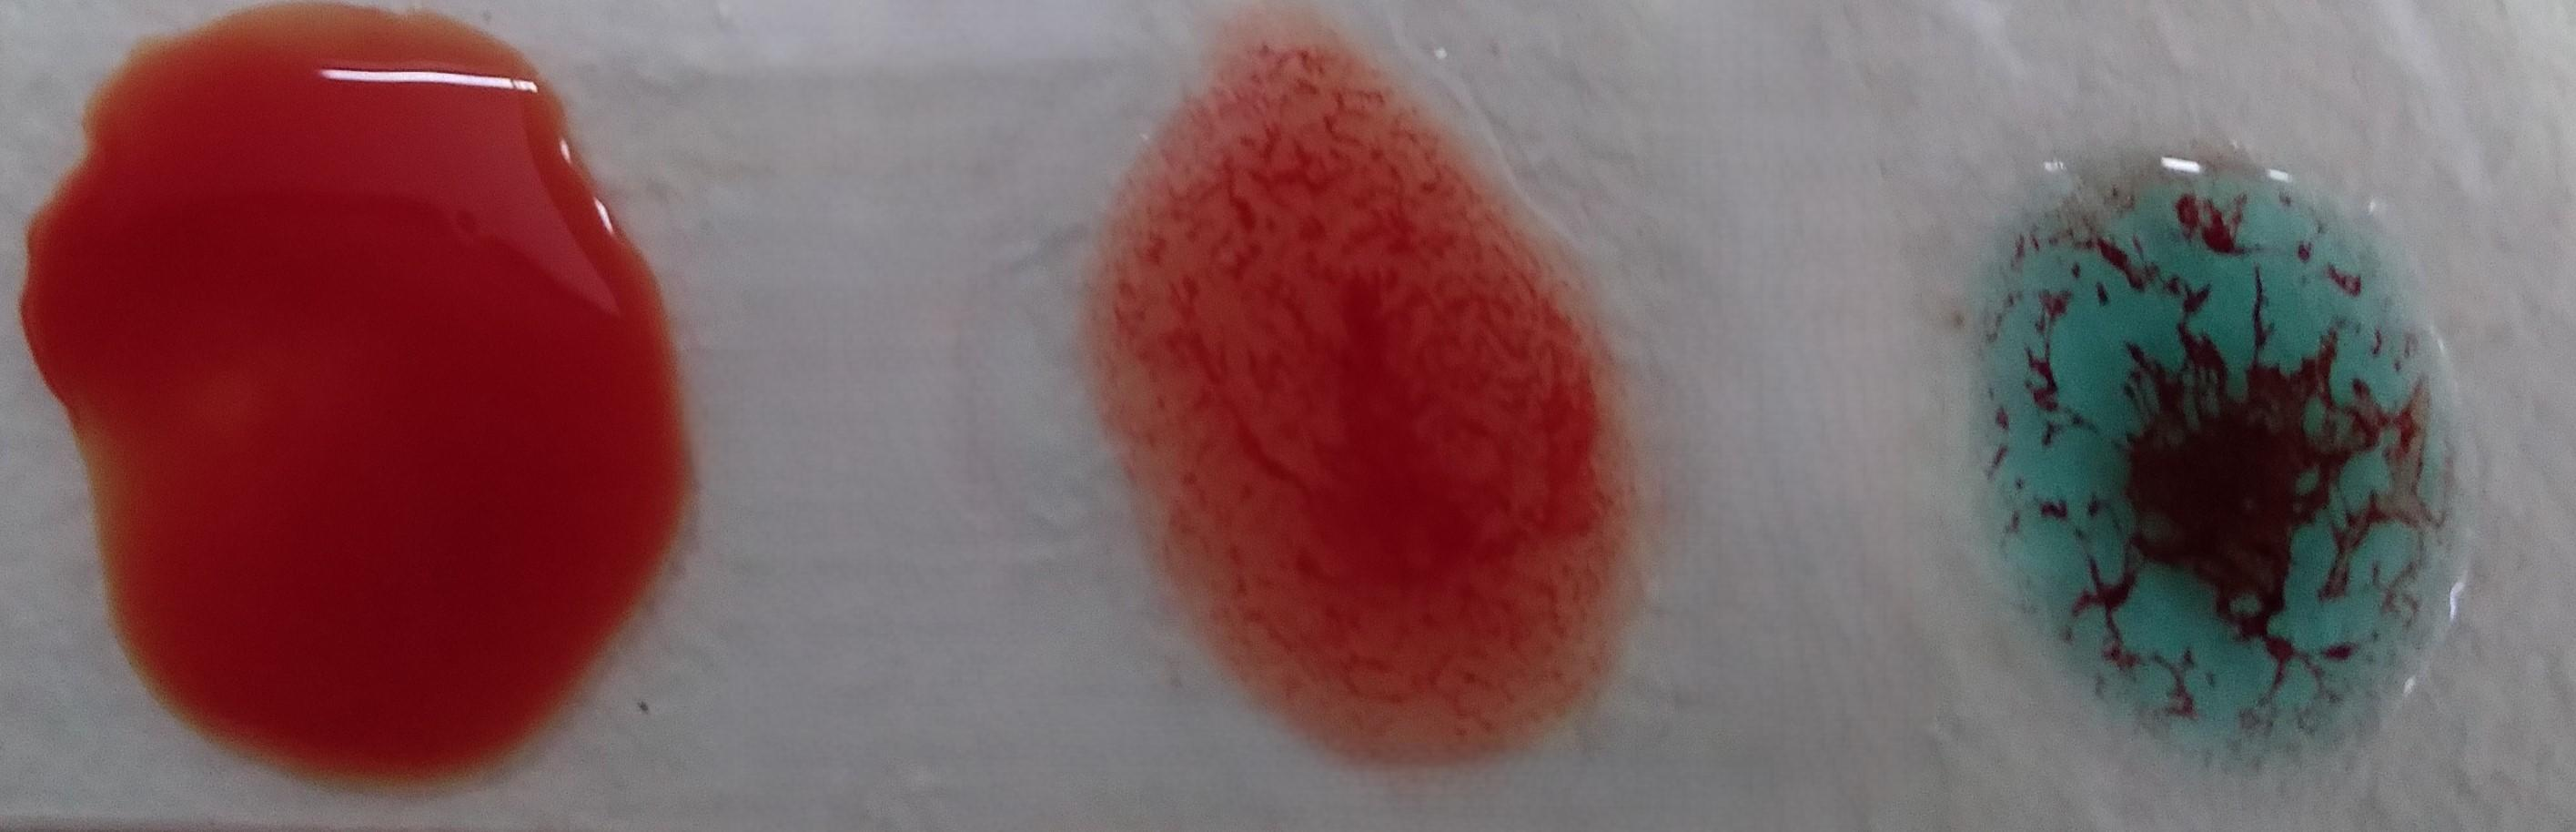A: (1948, 153, 2453, 770)
D: (1081, 46, 1638, 768)
